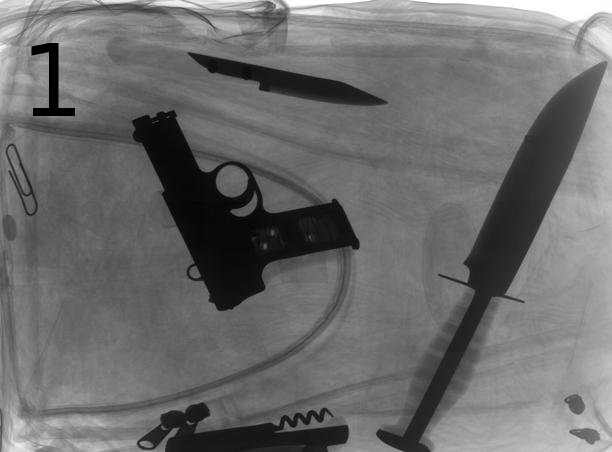Handgun: (127, 107, 364, 313)
Knife: (374, 56, 612, 452)
